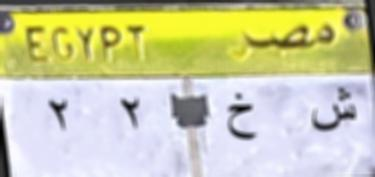2: (45, 94, 76, 137), (119, 94, 146, 136)
khaa: (225, 89, 260, 147)
sheen: (306, 83, 359, 138)
